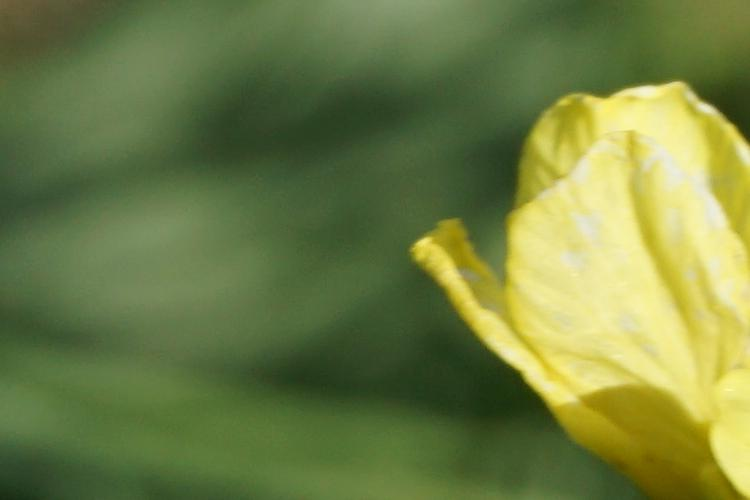yellow: (403, 62, 750, 492)
